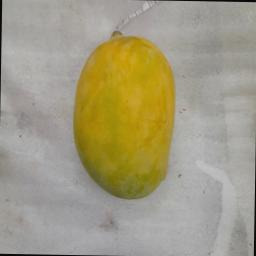Mango Ripe: (31, 0, 256, 247)
